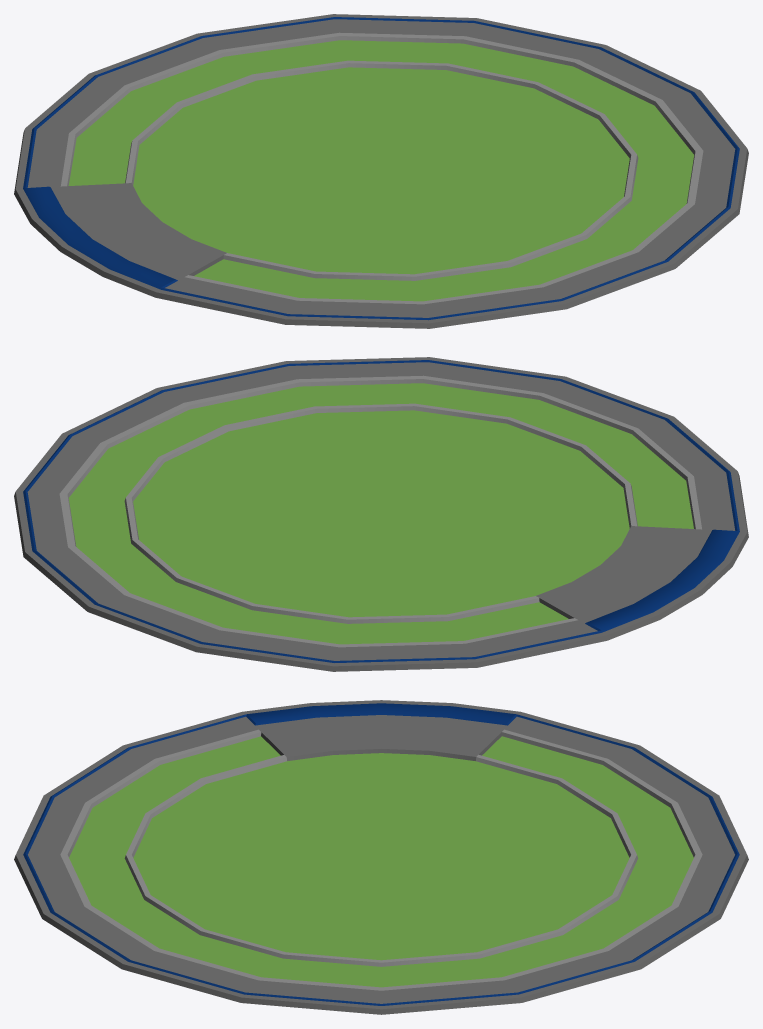
Rendered from W_O_Circle_Bottom_a_L1.fbx.
3 views of the same model, one above another, from view 1: azimuth 30°, elevation 25°; view 2: azimuth 150°, elevation 25°; view 3: azimuth 270°, elevation 25° (orthographic).
Parts seen in each view (by area): view 1: W_O_Circle_Bottom_a_L1; view 2: W_O_Circle_Bottom_a_L1; view 3: W_O_Circle_Bottom_a_L1.
Boxes of the visible parts, x1,y1,x2,y2 form: W_O_Circle_Bottom_a_L1: [14, 14, 748, 328]; W_O_Circle_Bottom_a_L1: [14, 357, 748, 671]; W_O_Circle_Bottom_a_L1: [14, 700, 748, 1014].
Bounding box in the file's own units: 2.2 × 0.02 × 2.2.
